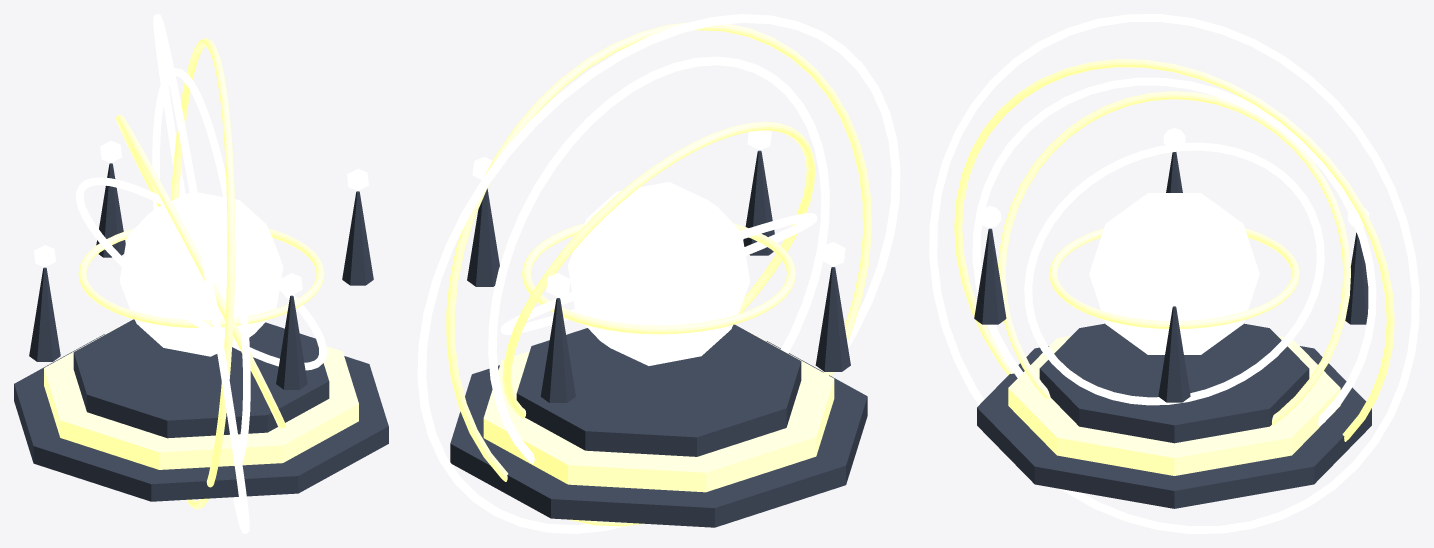
File: gpu-blender-v25.glb
3 renders of one model, left to right at view 1: azimuth 30°, elevation 25°; view 2: azimuth 150°, elevation 25°; view 3: azimuth 270°, elevation 25°, orthographic. The views are drawn at different scales.
Parts seen in each view (by area): view 1: Cylinder.002, Cylinder, SovereignCore_pixel-cast, Cylinder.001, Torus.005, Torus.004, Torus.003, Torus.001, Torus, Torus.002, Cone, Cone.003 (+2 smaller); view 2: Cylinder.002, SovereignCore_pixel-cast, Cylinder, Cylinder.001, Torus.005, Torus.004, Torus.003, Torus.002, Torus, Torus.001, Cone.002, Cone.001 (+2 smaller); view 3: SovereignCore_pixel-cast, Cylinder.002, Cylinder, Cylinder.001, Torus.005, Torus.004, Torus.001, Torus.002, Torus.003, Torus, Cone, Cone.003 (+1 smaller).
Part boxes in pixels (x1,y1,x2,y2): Cylinder.002: (73,319,329,438); Cylinder: (14,334,388,501); SovereignCore_pixel-cast: (119,192,283,356); Cylinder.001: (44,326,358,469); Torus.005: (153,14,249,533); Torus.004: (171,38,235,509); Torus.003: (152,68,250,461); Torus.001: (76,177,326,370); Torus: (78,228,324,328); Torus.002: (116,115,285,428); Cone: (342,191,373,285); Cone.003: (276,295,307,389); Cylinder.002: (516,324,801,456); SovereignCore_pixel-cast: (568,182,749,365); Cylinder: (450,341,867,527); Cylinder.001: (483,332,834,492); Torus.005: (417,14,900,533); Torus.004: (446,22,871,526); Torus.003: (488,56,829,463); Torus.002: (502,121,815,418); Torus: (522,223,795,334); Torus.001: (500,213,817,334); Cone.002: (815,267,850,371); Cone.001: (540,298,575,402); SovereignCore_pixel-cast: (1089,193,1259,354); Cylinder.002: (1039,323,1309,443); Cylinder: (977,346,1371,508); Cylinder.001: (1008,336,1340,475); Torus.005: (929,14,1419,533); Torus.004: (954,59,1394,441); Torus.001: (1024,142,1324,405); Torus.002: (998,91,1350,425); Torus.003: (972,77,1376,426); Torus: (1049,228,1299,328); Cone: (1158,306,1190,402); Cone.003: (974,228,1006,324).
Bounding box in the file's own units: 4.41 × 5.93 × 5.46.
